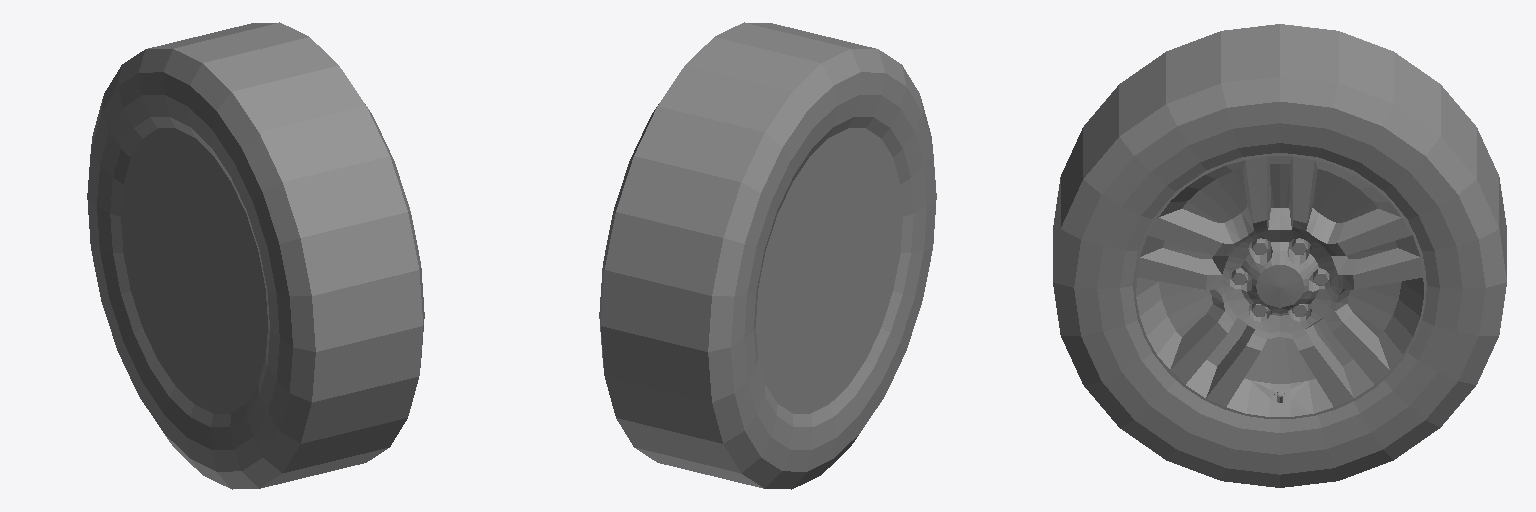
File: chelun_bak.obj
3 views of the same model, side by side, from view 1: azimuth 30°, elevation 25°; view 2: azimuth 150°, elevation 25°; view 3: azimuth 270°, elevation 25° (orthographic).
Visible parts, largest first — view 1: Object001; view 2: Object001; view 3: Object001.
Boxes of the visible parts, <box> form: Object001: <box>87,22,424,489</box>; Object001: <box>599,22,936,489</box>; Object001: <box>1053,24,1506,487</box>.
Size of the model in its own units: 26.38 by 76.73 by 76.73.